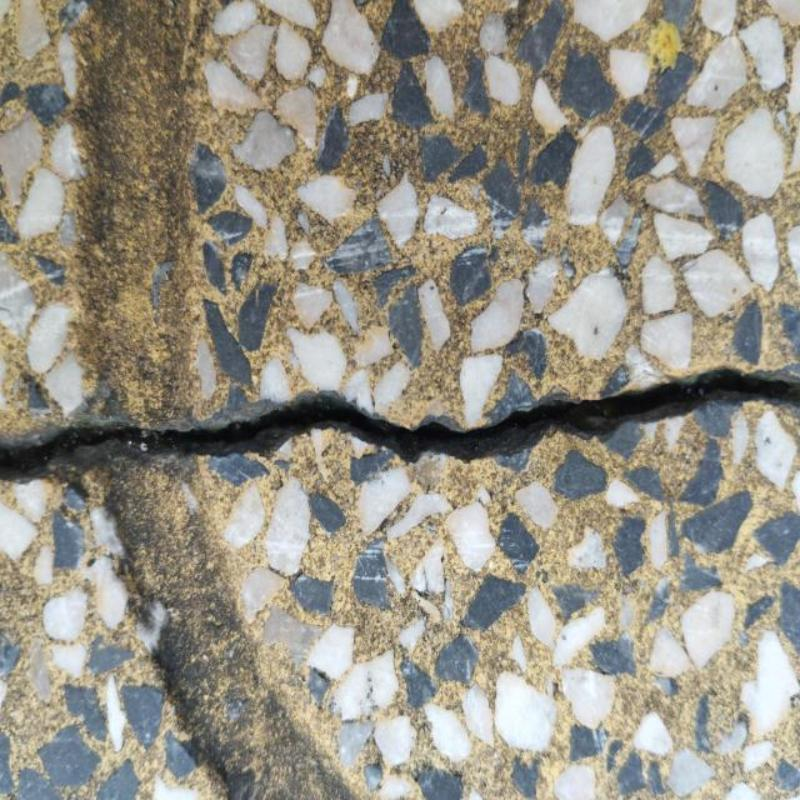crack: (0, 369, 799, 478)
